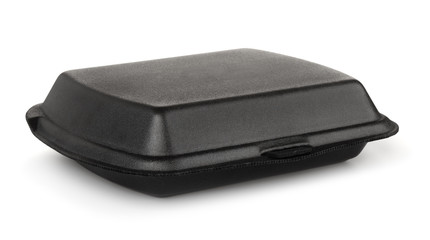styrofoam: (25, 48, 400, 200)
